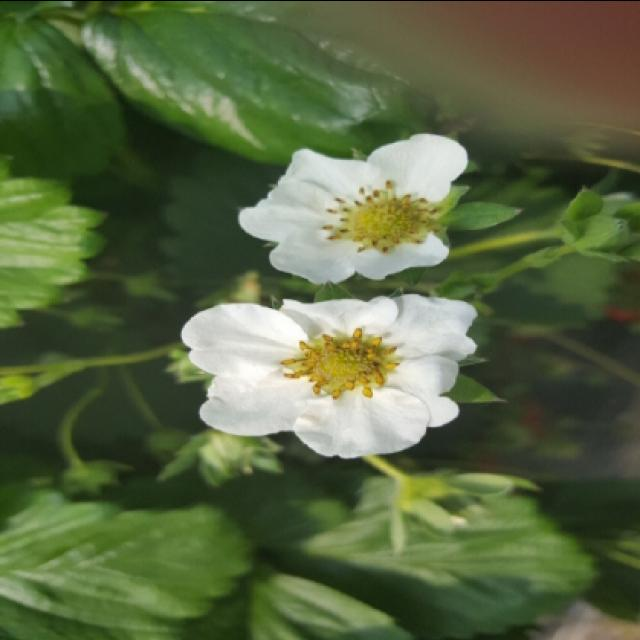Blossom Blight: (276, 322, 403, 405), (318, 176, 444, 259)
